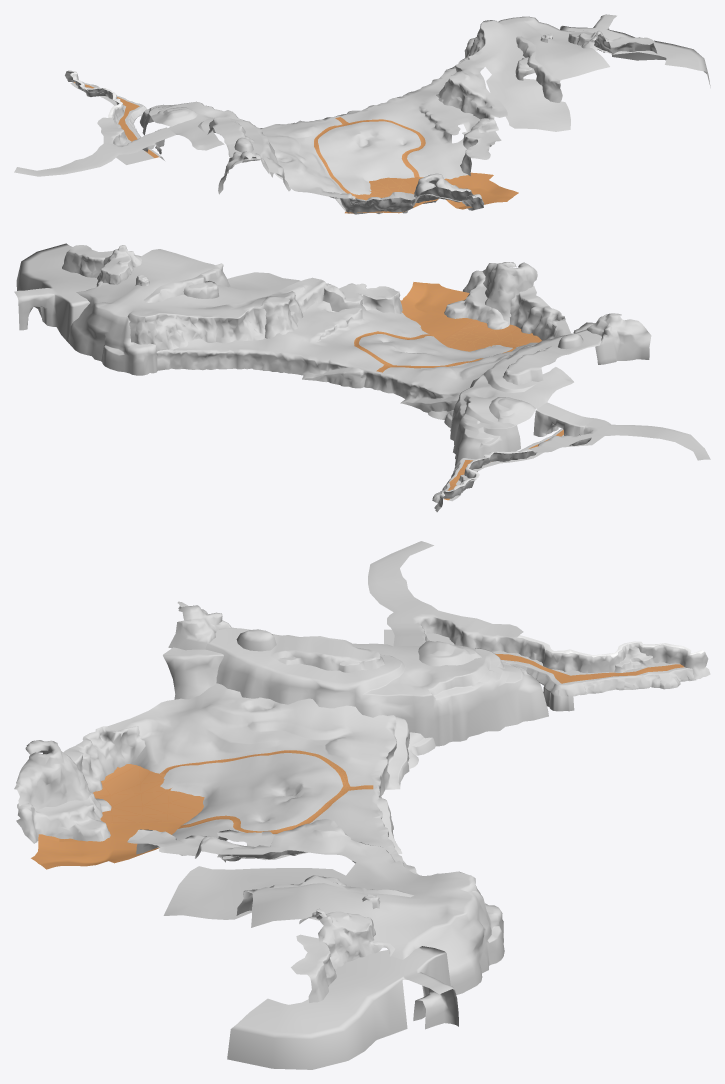
File: ground_un_c01_cliff01.gltf
3 views of the same model, one above another, from view 1: azimuth 30°, elevation 25°; view 2: azimuth 150°, elevation 25°; view 3: azimuth 270°, elevation 25° (orthographic). The views are drawn at different scales.
Visible parts, largest first — view 1: um_ground_un_c01_cliff01_model_ground_un_c01_cliff01_modelSh (×2); view 2: um_ground_un_c01_cliff01_model_ground_un_c01_cliff01_modelSh (×2); view 3: um_ground_un_c01_cliff01_model_ground_un_c01_cliff01_modelSh (×2).
Boxes of the visible parts, x1,y1,x2,y2 form: um_ground_un_c01_cliff01_model_ground_un_c01_cliff01_modelSh (×2): [14, 14, 710, 214]; um_ground_un_c01_cliff01_model_ground_un_c01_cliff01_modelSh (×2): [14, 243, 710, 512]; um_ground_un_c01_cliff01_model_ground_un_c01_cliff01_modelSh (×2): [14, 541, 710, 1069].
Bounding box in the file's own units: 1328 × 133 × 800.
3 materials, 1 textured.
